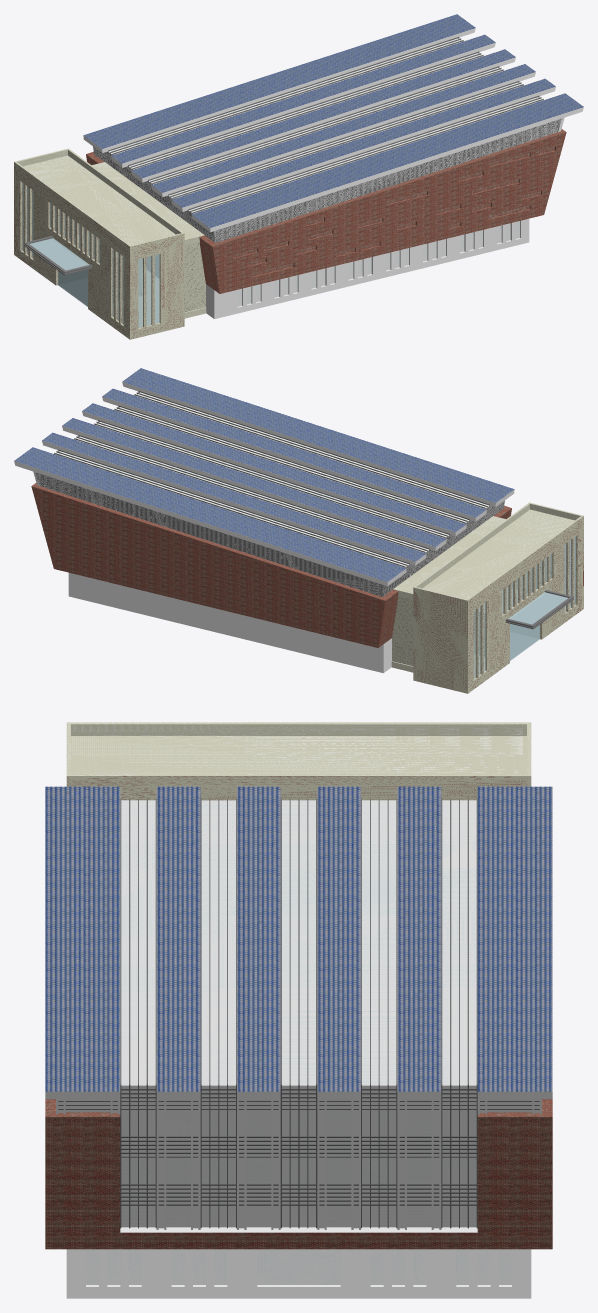
3 renders of one model, top to bottom at view 1: azimuth 30°, elevation 25°; view 2: azimuth 150°, elevation 25°; view 3: azimuth 270°, elevation 25°, orthographic. The views are drawn at different scales.
Parts seen in each view (by area): view 1: 组件_88 (×8), group_6 (×5), group_7, 组件_87 (×4), group_12 (×2), 组件_90 (×15), group_5, group_14 (×2), group_1; view 2: 组件_88 (×8), group_7, group_6 (×5), 组件_87 (×4), group_12 (×2), 组件_90 (×15), group_5, group_14 (×2), group_1; view 3: group_12, 组件_88 (×4), 组件_87 (×2), group_6 (×3), group_7 (×2), 组件_90 (×19), group_5, group_20 (×4), 组件_92.
Boxes of the visible parts, box(x1,y1,x2,y2) form: 组件_88 (×8): box(111, 34, 555, 211); group_6 (×5): box(14, 148, 206, 339); group_7: box(86, 129, 566, 293); 组件_87 (×4): box(83, 14, 583, 232); group_12 (×2): box(93, 38, 561, 242); 组件_90 (×15): box(108, 37, 543, 213); group_5: box(147, 218, 529, 319); group_14 (×2): box(24, 236, 92, 275); group_1: box(58, 269, 87, 306); 组件_88 (×8): box(42, 388, 486, 565); group_7: box(31, 483, 511, 647); group_6 (×5): box(391, 502, 583, 693); 组件_87 (×4): box(14, 368, 514, 586); group_12 (×2): box(36, 392, 504, 596); 组件_90 (×15): box(54, 391, 489, 567); group_5: box(68, 572, 391, 673); group_14 (×2): box(505, 590, 573, 629); group_1: box(510, 623, 539, 660); group_12: box(65, 800, 532, 1227); 组件_88 (×4): box(156, 786, 441, 1091); 组件_87 (×2): box(45, 786, 552, 1091); group_6 (×3): box(66, 722, 531, 800); group_7 (×2): box(45, 1099, 552, 1249); 组件_90 (×19): box(120, 798, 477, 1228); group_5: box(66, 1249, 531, 1298); group_20 (×4): box(158, 1099, 439, 1228); 组件_92: box(257, 1249, 340, 1284).
Bounding box in the file's own units: 2024 × 933 × 517.
Materials: 9 (4 with a texture image).
